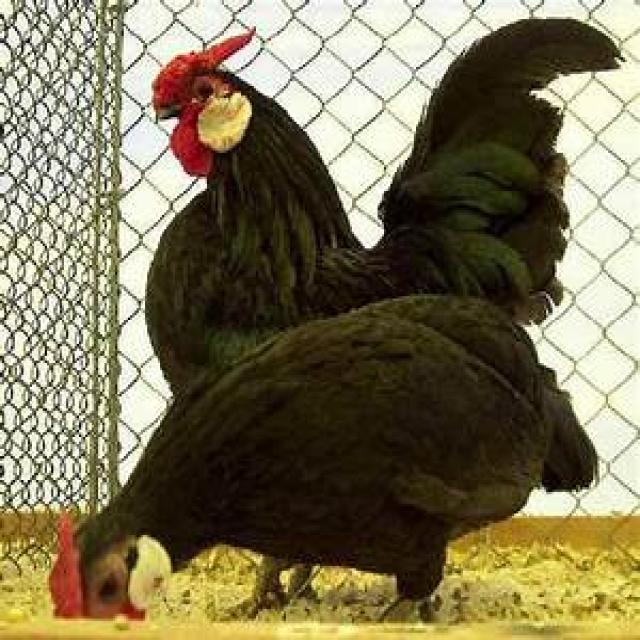hen: (68, 279, 599, 621), (145, 19, 619, 399)
